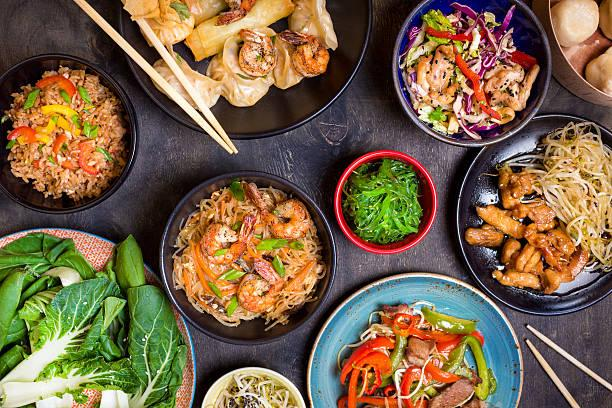Braised Crucian Carp: (122, 0, 359, 141), (454, 116, 611, 315), (158, 172, 331, 344), (306, 270, 515, 404), (392, 1, 547, 148), (0, 53, 137, 213)
